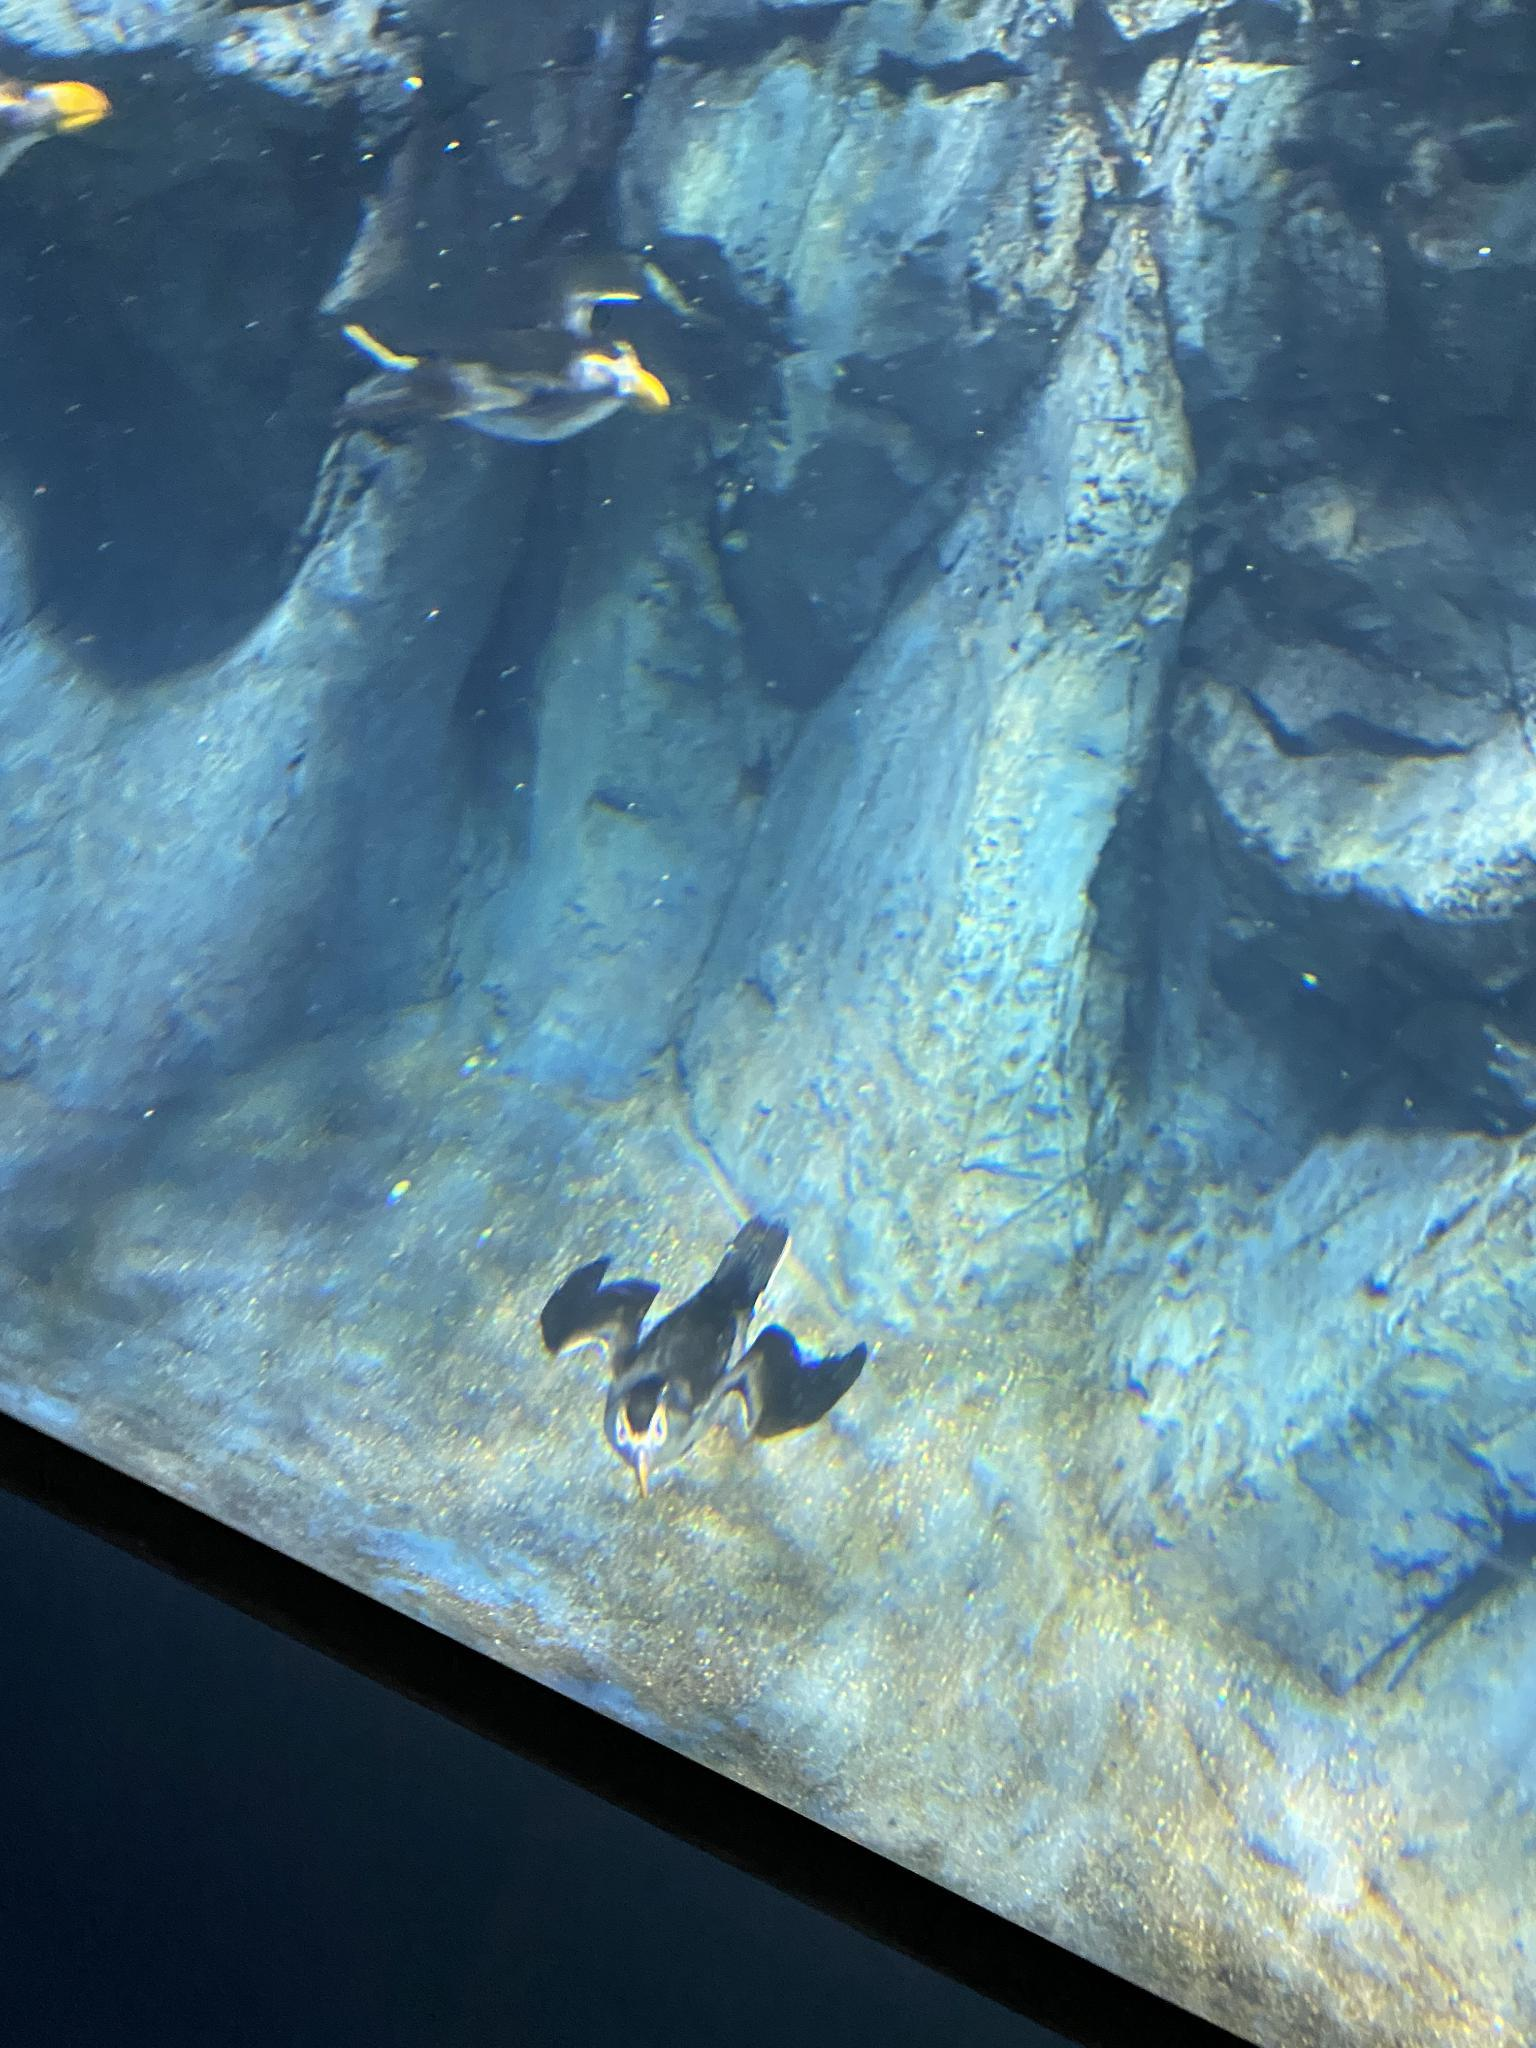puffin: (541, 1216, 870, 1501), (323, 261, 676, 443), (0, 71, 118, 192)
